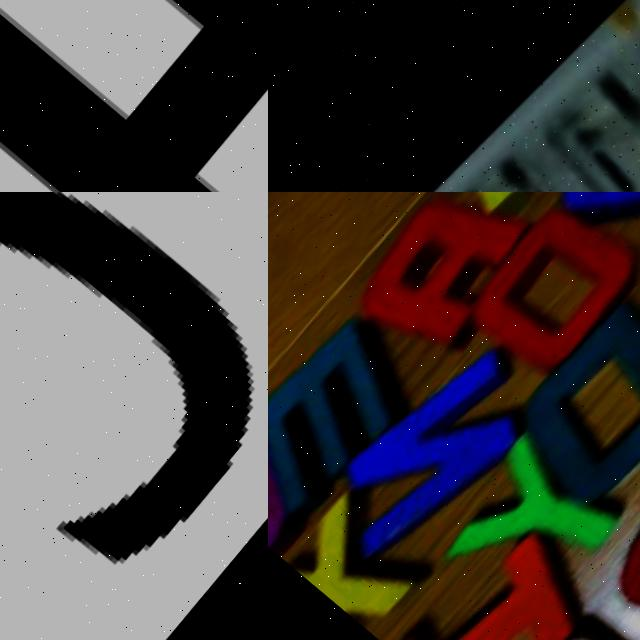1: (542, 95, 640, 192)
A: (338, 192, 527, 370)
D: (497, 310, 640, 521)
H: (0, 0, 268, 192)
I: (386, 506, 610, 640)
M: (268, 316, 421, 515)
N: (305, 336, 537, 578)
O: (458, 192, 640, 386)
P: (474, 606, 640, 640)
U: (582, 386, 640, 639)
Y: (410, 425, 625, 640)
